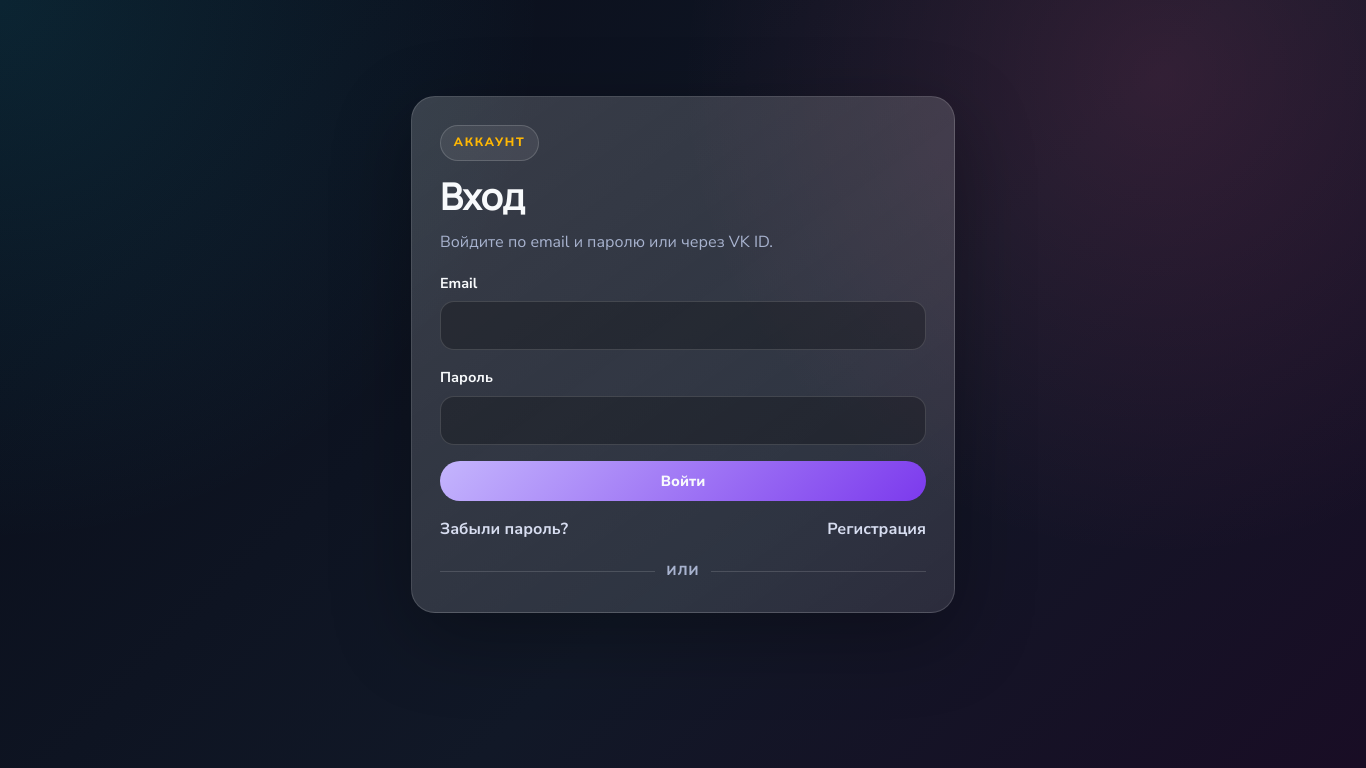
LoginPage › shows api error message
Type "fan@example.com" into the field labelled "Email". click: (683, 326)
box: [440,302,926,350]
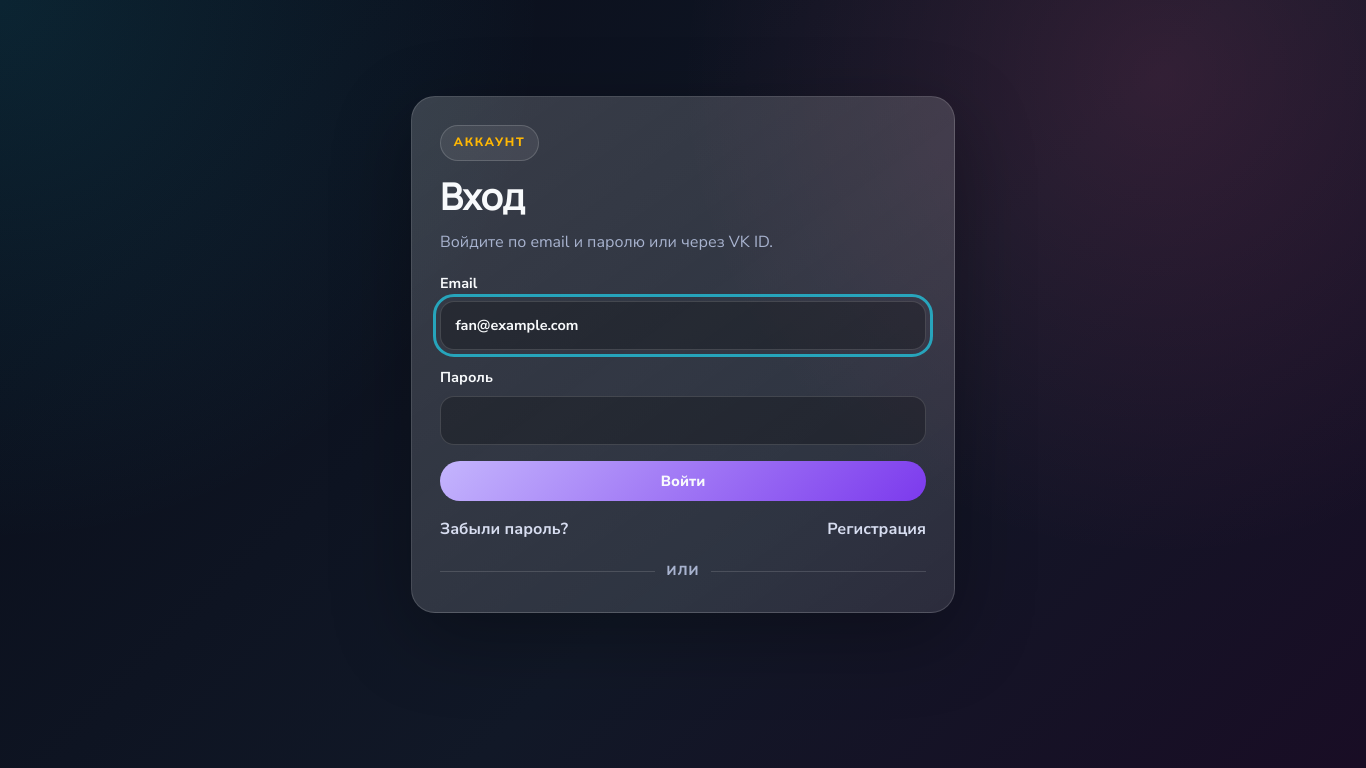
Type "bad" into the password field labelled "Пароль". click: (683, 420)
box: [440,396,926,445]
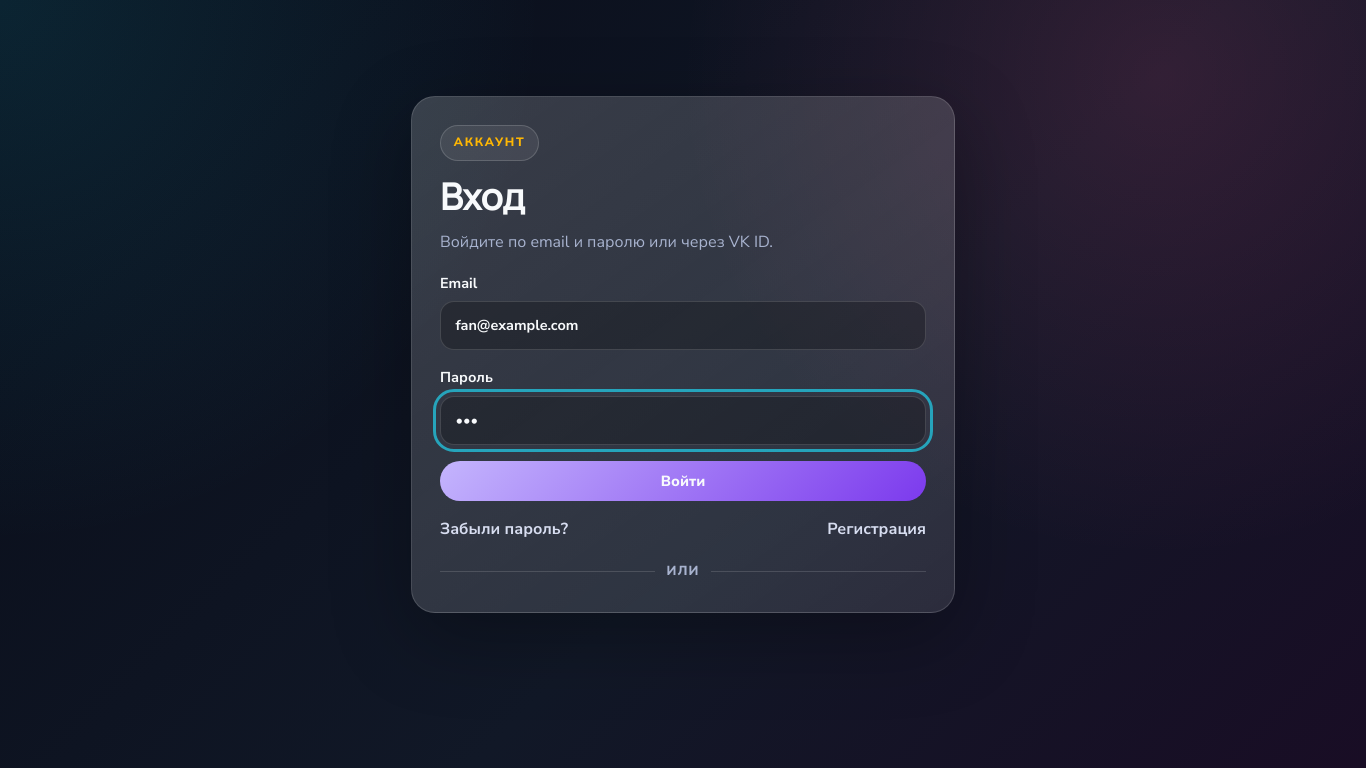
Click the button "Войти". click: (683, 481)
box: [440,461,926,501]
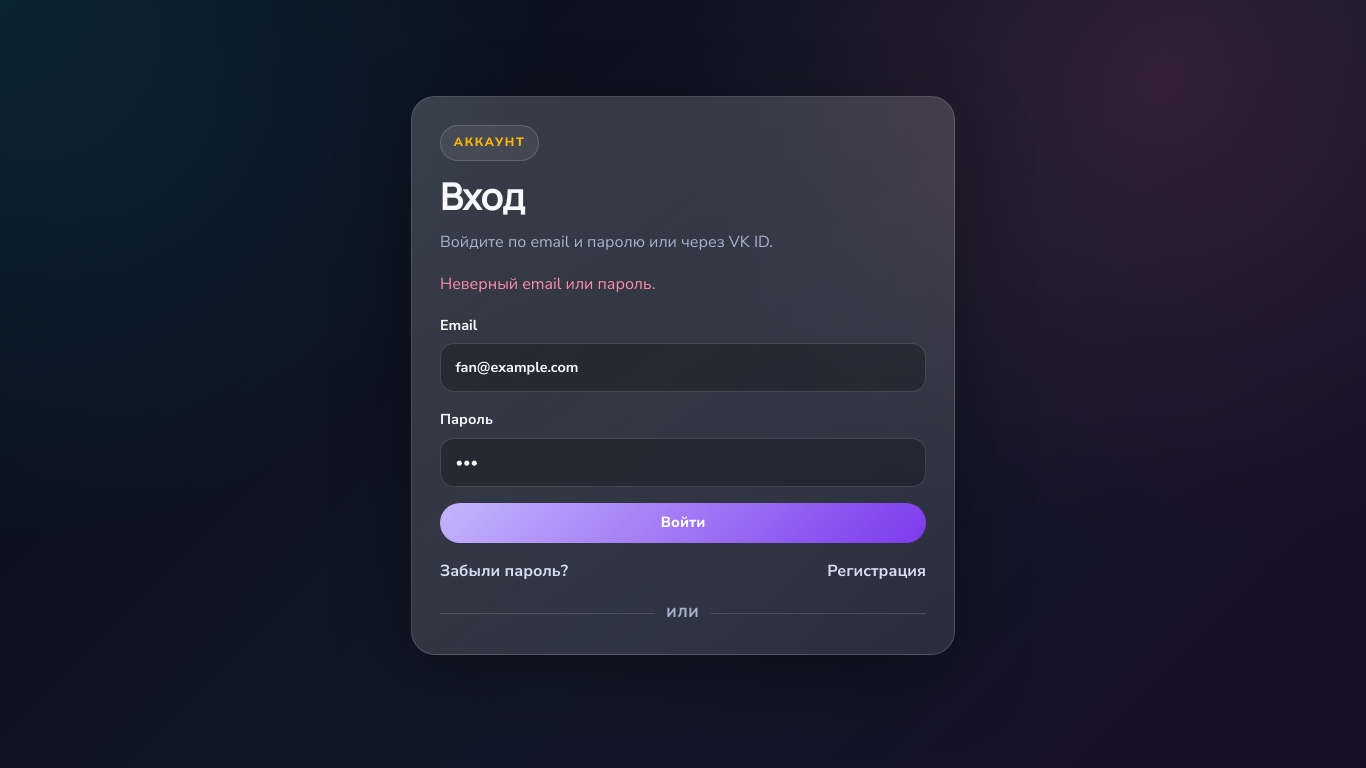
Expected: the text "Неверный email или пароль." is shown, [440,273,655,295]
